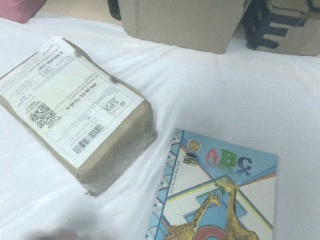book: (129, 123, 283, 240)
box: (1, 33, 159, 199), (111, 1, 266, 55), (243, 1, 319, 58)
